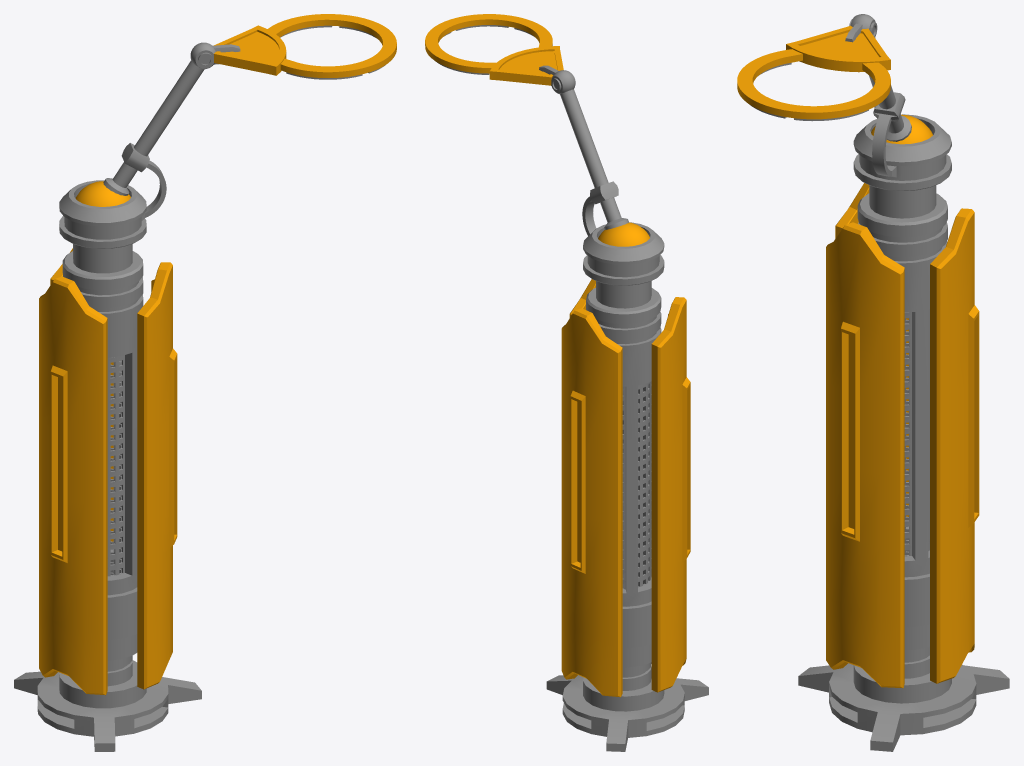
Rendered from Obsticale1.FBX.
The picture shows the model from 3 angles, left to right: view 1: azimuth 30°, elevation 25°; view 2: azimuth 150°, elevation 25°; view 3: azimuth 270°, elevation 25°; orthographic projection. The views are drawn at different scales.
Visible parts, largest first — view 1: searchlight; view 2: searchlight; view 3: searchlight.
Boxes of the visible parts, <box> form: searchlight: <box>14,14,396,751</box>; searchlight: <box>425,14,708,751</box>; searchlight: <box>737,14,1009,751</box>.
Size of the model in its own units: 80.8 by 56.06 by 167.
